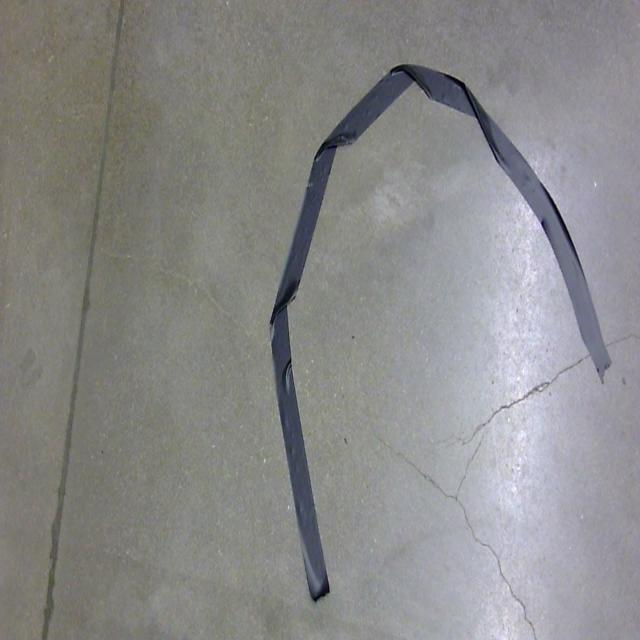tape: (256, 51, 624, 617)
